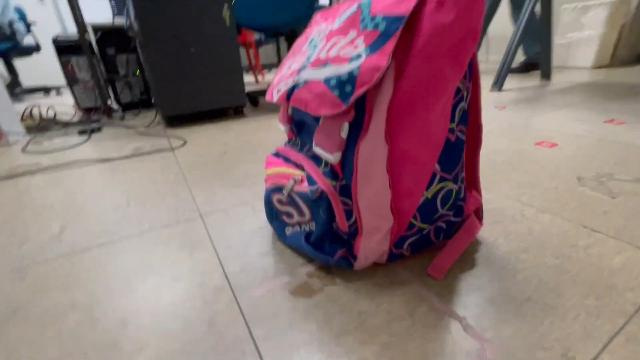Backpack: (252, 0, 496, 290)
